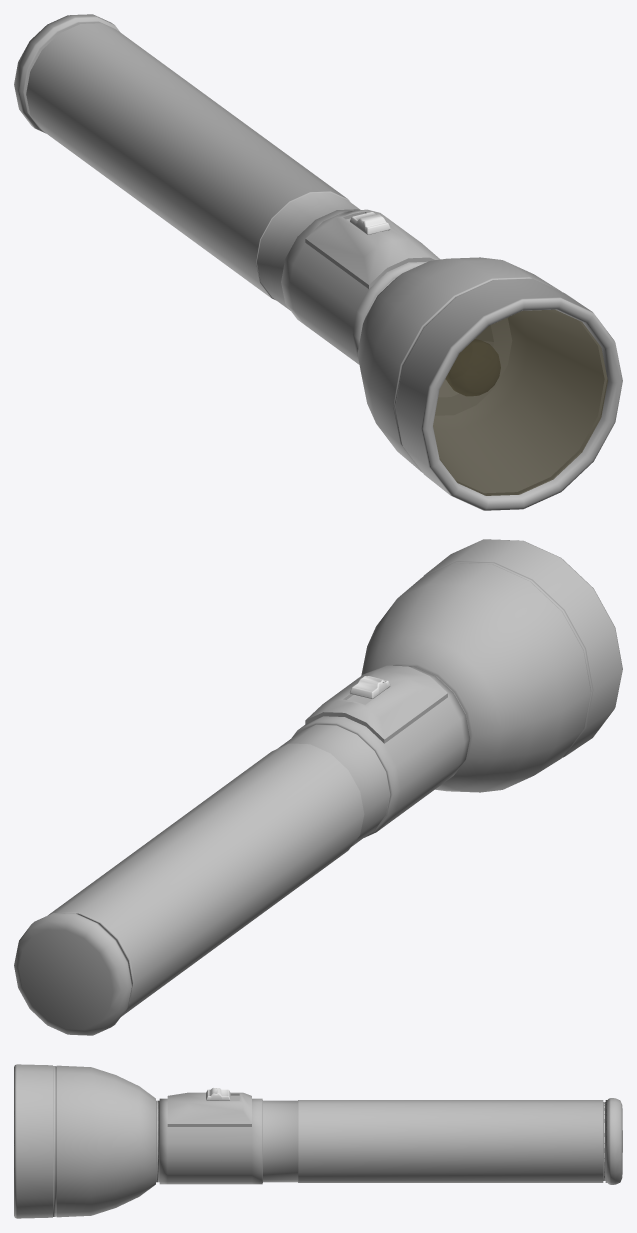
File: Flashlight_low.fbx
The picture shows the model from 3 angles, top to bottom: view 1: azimuth 30°, elevation 25°; view 2: azimuth 150°, elevation 25°; view 3: azimuth 270°, elevation 25°; orthographic projection. The views are drawn at different scales.
Parts seen in each view (by area): view 1: Flashlight_low; view 2: Flashlight_low; view 3: Flashlight_low, LightSwitch_low.
Boxes of the visible parts, x1,y1,x2,y2 form: Flashlight_low: (14, 14, 622, 510); Flashlight_low: (14, 539, 622, 1035); Flashlight_low: (14, 1064, 622, 1218); LightSwitch_low: (206, 1088, 230, 1100).
Bounding box in the file's own units: 7.82 × 7.82 × 30.87.
